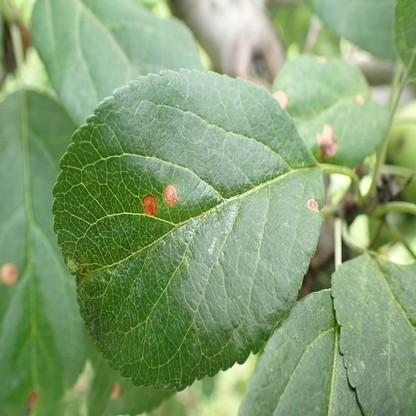frogeye_leaf_spot: (317, 125, 337, 159), (142, 194, 157, 216), (0, 263, 17, 282), (163, 184, 178, 205), (271, 90, 288, 107), (27, 391, 36, 414), (307, 198, 320, 213), (110, 381, 120, 398), (355, 95, 364, 106), (318, 56, 326, 62)
